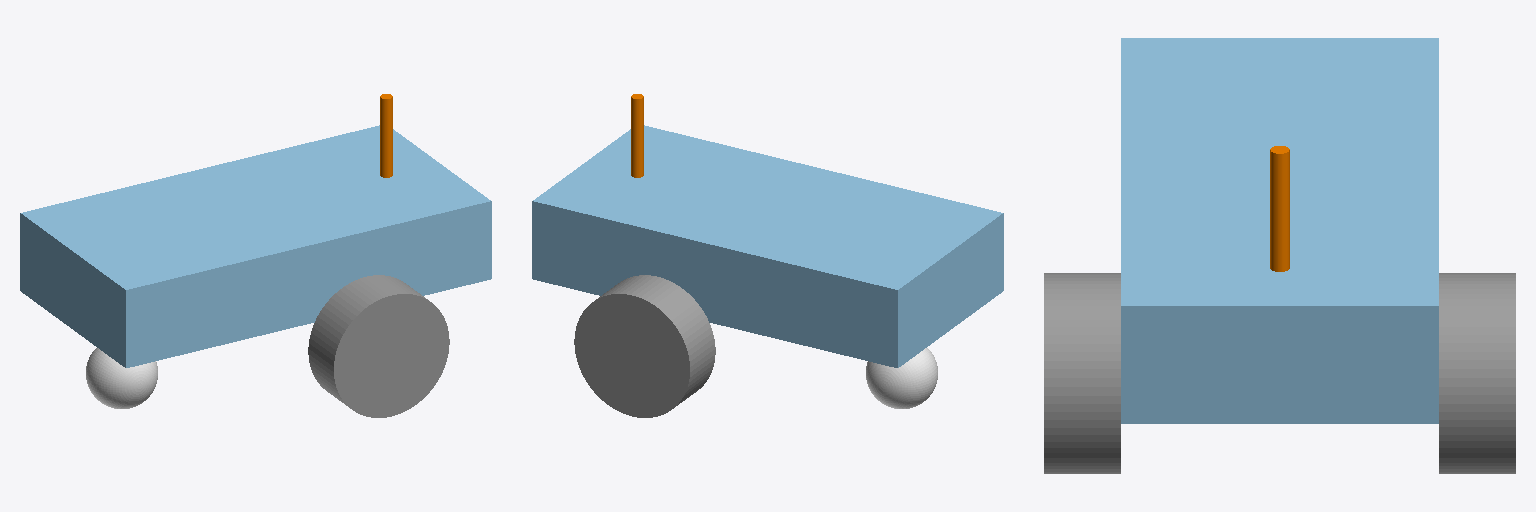
The robot description file, URDF, robot "gopigo3":
<?xml version="1.0" encoding="UTF-8"?>
<robot name="gopigo3">
  <!-- Link main_body -->
  <link name="main_body">
    <inertial>
      <origin rpy="0 0 0" xyz="-0.0329648 6.86601e-18 0.0213989"/>
      <mass value="1.10932"/>
      <inertia ixx="0.00119512" ixy="-2.87996e-22" ixz="-8.19693e-06" iyy="0.00425749" iyz="-2.02418e-21" izz="0.00509302"/>
    </inertial>
    <!-- Part wheel_joints -->
    <visual>
      <origin rpy="0 -0 0" xyz="-0.138 -0.0525 0"/>
      <geometry>
        <mesh filename="package://blacknav/assets/wheel_joints.stl"/>
      </geometry>
      <material name="wheel_joints_material">
        <color rgba="0.768627 0.886275 0.952941 1"/>
      </material>
    </visual>
    <collision>
      <origin rpy="0 -0 0" xyz="-0.138 -0.0525 0"/>
      <geometry>
        <mesh filename="package://blacknav/assets/wheel_joints.stl"/>
      </geometry>
    </collision>
    <!-- Part main_body -->
    <visual>
      <origin rpy="0 -0 0" xyz="-0.138 -0.0525 0"/>
      <geometry>
        <mesh filename="package://blacknav/assets/main_body.stl"/>
      </geometry>
      <material name="main_body_material">
        <color rgba="0.615686 0.811765 0.929412 1"/>
      </material>
    </visual>
    <collision>
      <origin rpy="0 -0 0" xyz="-0.138 -0.0525 0"/>
      <geometry>
        <mesh filename="package://blacknav/assets/main_body.stl"/>
      </geometry>
    </collision>
    <!-- Part realsense_tripod -->
    <visual>
      <origin rpy="0 -0 0" xyz="-0.138 -0.0525 0"/>
      <geometry>
        <mesh filename="package://blacknav/assets/realsense_tripod.stl"/>
      </geometry>
      <material name="realsense_tripod_material">
        <color rgba="0.972549 0.529412 0.00392157 1"/>
      </material>
    </visual>
    <collision>
      <origin rpy="0 -0 0" xyz="-0.138 -0.0525 0"/>
      <geometry>
        <mesh filename="package://blacknav/assets/realsense_tripod.stl"/>
      </geometry>
    </collision>
    <!-- Part caster_holder -->
    <visual>
      <origin rpy="0 -0 0" xyz="-0.138 -0.0525 0"/>
      <geometry>
        <mesh filename="package://blacknav/assets/caster_holder.stl"/>
      </geometry>
      <material name="caster_holder_material">
        <color rgba="0.231373 0.380392 0.705882 1"/>
      </material>
    </visual>
    <collision>
      <origin rpy="0 -0 0" xyz="-0.138 -0.0525 0"/>
      <geometry>
        <mesh filename="package://blacknav/assets/caster_holder.stl"/>
      </geometry>
    </collision>
  </link>
  <!-- Frame realsense (dummy link + fixed joint) -->
  <link name="realsense">
    <origin rpy="0 -0 0" xyz="0 0 0"/>
    <inertial>
      <origin rpy="0 0 0" xyz="0 0 0"/>
      <mass value="1e-9"/>
      <inertia ixx="0" ixy="0" ixz="0" iyy="0" iyz="0" izz="0"/>
    </inertial>
  </link>
  <joint name="realsense_frame" type="fixed">
    <origin rpy="0 -0 0" xyz="0.042 0 0.08618"/>
    <parent link="main_body"/>
    <child link="realsense"/>
    <axis xyz="0 0 0"/>
  </joint>
  <!-- Link caster_wheel -->
  <link name="caster_wheel">
    <inertial>
      <origin rpy="0 0 0" xyz="6.93889e-18 -6.93889e-18 6.93889e-18"/>
      <mass value="0.0268719"/>
      <inertia ixx="3.4826e-06" ixy="7.11277e-39" ixz="2.83045e-22" iyy="3.4826e-06" iyz="-1.93215e-38" izz="3.4826e-06"/>
    </inertial>
    <!-- Part caster_wheel -->
    <visual>
      <origin rpy="-9.93323e-34 -2.57628e-17 2.04237e-33" xyz="-0.028 -0.0525 0.03025"/>
      <geometry>
        <mesh filename="package://blacknav/assets/caster_wheel.stl"/>
      </geometry>
      <material name="caster_wheel_material">
        <color rgba="0.917647 0.917647 0.917647 1"/>
      </material>
    </visual>
    <collision>
      <origin rpy="-9.93323e-34 -2.57628e-17 2.04237e-33" xyz="-0.028 -0.0525 0.03025"/>
      <geometry>
        <mesh filename="package://blacknav/assets/caster_wheel.stl"/>
      </geometry>
    </collision>
  </link>
  <!-- Joint from main_body to caster_wheel -->
  <joint name="caster" type="fixed">
    <origin rpy="1.86333e-17 0.523599 8.23044e-18" xyz="-0.11 0 -0.03025"/>
    <parent link="main_body"/>
    <child link="caster_wheel"/>
    <axis xyz="0 0 1"/>
    <limit effort="10" velocity="10"/>
  </joint>
  <!-- Link right_wheel -->
  <link name="right_wheel">
    <inertial>
      <origin rpy="0 0 0" xyz="-2.77556e-17 0 -0.0127"/>
      <mass value="0.097042"/>
      <inertia ixx="3.20388e-05" ixy="-7.6915e-24" ixz="7.70303e-38" iyy="3.20388e-05" iyz="-5.89179e-37" izz="5.3643e-05"/>
    </inertial>
    <!-- Part right_wheel -->
    <visual>
      <origin rpy="1.5708 -2.54873e-33 -1.32134e-18" xyz="-0.138 -0.015 0"/>
      <geometry>
        <mesh filename="package://blacknav/assets/right_wheel.stl"/>
      </geometry>
      <material name="right_wheel_material">
        <color rgba="0.647059 0.647059 0.647059 1"/>
      </material>
    </visual>
    <collision>
      <origin rpy="1.5708 -2.54873e-33 -1.32134e-18" xyz="-0.138 -0.015 0"/>
      <geometry>
        <mesh filename="package://blacknav/assets/right_wheel.stl"/>
      </geometry>
    </collision>
  </link>
  <!-- Joint from main_body to right_wheel -->
  <joint name="right_wheel" type="continuous">
    <origin rpy="-1.5708 -0.0391331 1.74851e-17" xyz="0 -0.0525 -0.015"/>
    <parent link="main_body"/>
    <child link="right_wheel"/>
    <axis xyz="0 0 1"/>
    <limit effort="10" velocity="10"/>
  </joint>
  <!-- Link left_wheel -->
  <link name="left_wheel">
    <inertial>
      <origin rpy="0 0 0" xyz="0 -1.73472e-18 0.0127"/>
      <mass value="0.097042"/>
      <inertia ixx="3.20388e-05" ixy="1.02554e-21" ixz="2.16687e-37" iyy="3.20388e-05" iyz="-8.83342e-38" izz="5.3643e-05"/>
    </inertial>
    <!-- Part left_wheel -->
    <visual>
      <origin rpy="1.5708 2.40396e-33 1.61442e-18" xyz="-0.138 -0.015 -0.105"/>
      <geometry>
        <mesh filename="package://blacknav/assets/left_wheel.stl"/>
      </geometry>
      <material name="left_wheel_material">
        <color rgba="0.647059 0.647059 0.647059 1"/>
      </material>
    </visual>
    <collision>
      <origin rpy="1.5708 2.40396e-33 1.61442e-18" xyz="-0.138 -0.015 -0.105"/>
      <geometry>
        <mesh filename="package://blacknav/assets/left_wheel.stl"/>
      </geometry>
    </collision>
  </link>
  <!-- Joint from main_body to left_wheel -->
  <joint name="left_wheel" type="continuous">
    <origin rpy="1.5708 -0.654829 -3.14159" xyz="0 0.0525 -0.015"/>
    <parent link="main_body"/>
    <child link="left_wheel"/>
    <axis xyz="0 0 1"/>
    <limit effort="10" velocity="10"/>
  </joint>
  <material name="aluminum">
    <color rgba="0.5 0.5 0.5 1"/>
  </material>
  <material name="plastic">
    <color rgba="0.1 0.1 0.1 1"/>
  </material>
  <!-- camera body, with origin at bottom screw mount -->
  <link name="base_link"/>
  <joint name="camera_joint" type="fixed">
    <origin rpy="0 0 0" xyz="0 0 0"/>
    <parent link="base_link"/>
    <child link="camera_bottom_screw_frame"/>
  </joint>
  <link name="camera_bottom_screw_frame"/>
  <joint name="camera_link_joint" type="fixed">
    <origin rpy="0 0 0" xyz="0 0.02 0.0115"/>
    <parent link="camera_bottom_screw_frame"/>
    <child link="camera_link"/>
  </joint>
  <link name="camera_link">
    <visual>
      <origin rpy="1.5707963267948966 0 1.5707963267948966" xyz="0.00987 -0.02 0"/>
      <geometry>
        <mesh filename="package://blacknav/assets/d415.stl"/>
      </geometry>
      <material name="aluminum"/>
    </visual>
    <collision>
      <origin rpy="0 0 0" xyz="0 -0.02 0"/>
      <geometry>
        <box size="0.02005 0.099 0.023"/>
      </geometry>
    </collision>
    <inertial>
      <mass value="0.072"/>
      <!-- The following are not reliable values, and should not be used for modeling -->
      <origin xyz="0 0 0"/>
      <inertia ixx="0.003881243" ixy="0.0" ixz="0.0" iyy="0.000498940" iyz="0.0" izz="0.003879257"/>
    </inertial>
  </link>
  <!-- camera depth joints and links -->
  <joint name="camera_depth_joint" type="fixed">
    <origin rpy="0 0 0" xyz="0 0 0"/>
    <parent link="camera_link"/>
    <child link="camera_depth_frame"/>
  </joint>
  <link name="camera_depth_frame"/>
  <joint name="camera_depth_optical_joint" type="fixed">
    <origin rpy="-1.5707963267948966 0 -1.5707963267948966" xyz="0 0 0"/>
    <parent link="camera_depth_frame"/>
    <child link="camera_depth_optical_frame"/>
  </joint>
  <link name="camera_depth_optical_frame"/>
  <!-- camera left IR joints and links -->
  <joint name="camera_infra1_joint" type="fixed">
    <origin rpy="0 0 0" xyz="0 0.0 0"/>
    <parent link="camera_link"/>
    <child link="camera_infra1_frame"/>
  </joint>
  <link name="camera_infra1_frame"/>
  <joint name="camera_infra1_optical_joint" type="fixed">
    <origin rpy="-1.5707963267948966 0 -1.5707963267948966" xyz="0 0 0"/>
    <parent link="camera_infra1_frame"/>
    <child link="camera_infra1_optical_frame"/>
  </joint>
  <link name="camera_infra1_optical_frame"/>
  <!-- camera right IR joints and links -->
  <joint name="camera_infra2_joint" type="fixed">
    <origin rpy="0 0 0" xyz="0 -0.055 0"/>
    <parent link="camera_link"/>
    <child link="camera_infra2_frame"/>
  </joint>
  <link name="camera_infra2_frame"/>
  <joint name="camera_infra2_optical_joint" type="fixed">
    <origin rpy="-1.5707963267948966 0 -1.5707963267948966" xyz="0 0 0"/>
    <parent link="camera_infra2_frame"/>
    <child link="camera_infra2_optical_frame"/>
  </joint>
  <link name="camera_infra2_optical_frame"/>
  <!-- camera color joints and links -->
  <joint name="camera_color_joint" type="fixed">
    <origin rpy="0 0 0" xyz="0 0.015 0"/>
    <parent link="camera_link"/>
    <child link="camera_color_frame"/>
  </joint>
  <link name="camera_color_frame"/>
  <joint name="camera_color_optical_joint" type="fixed">
    <origin rpy="-1.5707963267948966 0 -1.5707963267948966" xyz="0 0 0"/>
    <parent link="camera_color_frame"/>
    <child link="camera_color_optical_frame"/>
  </joint>
  <link name="camera_color_optical_frame"/>
  <joint name="realsense_camera" type="fixed">
    <origin rpy="0.0 0.0 0.0" xyz="0.0 0.0 0.0"/>
    <parent link="realsense"/>
    <child link="base_link"/>
    <axis xyz="0.0 0.0 0.0"/>
    <limit effort="0.0" lower="0.0" upper="0.0" velocity="0.0"/>
  </joint>
</robot>

--- Render facts (derived) ---
3 views of the same robot in one strip: view 1: azimuth 30°, elevation 25°; view 2: azimuth 150°, elevation 25°; view 3: azimuth 270°, elevation 25° (orthographic).
Model gopigo3 with 16 links and 15 joints (2 continuous, 13 fixed), rooted at main_body, posed every joint at zero.
Links seen in each view (by area): view 1: main_body, right_wheel, caster_wheel; view 2: main_body, left_wheel, caster_wheel; view 3: main_body, right_wheel, left_wheel.
Link boxes in pixels (<box>): main_body: <box>20,94,491,367</box>; right_wheel: <box>308,275,449,417</box>; caster_wheel: <box>86,348,157,408</box>; main_body: <box>532,94,1003,367</box>; left_wheel: <box>574,275,715,417</box>; caster_wheel: <box>866,348,937,408</box>; main_body: <box>1121,38,1438,423</box>; right_wheel: <box>1044,273,1120,473</box>; left_wheel: <box>1439,273,1515,473</box>.
Size in the robot's own frame: 0.21 by 0.1558 by 0.1344 metres.
Meshes: 8 distinct files referenced, 7 mesh visuals loaded (7 binary STL); not drawn: 1 (reference not matched to a file when rendering).